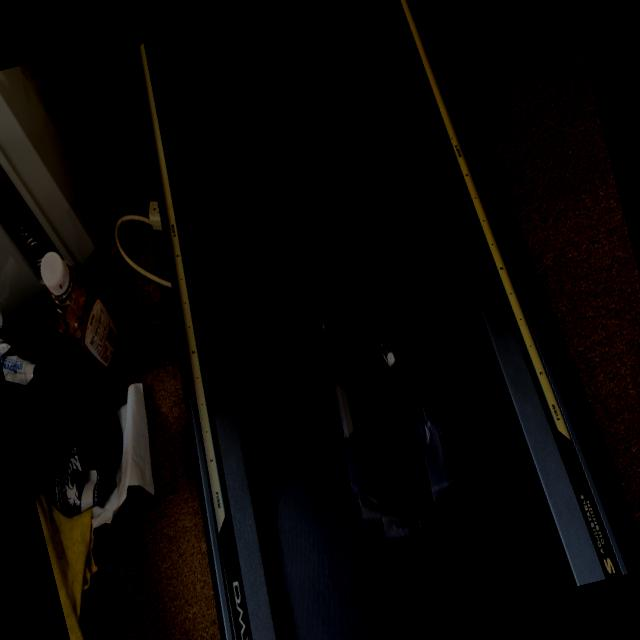Trash: (296, 258, 468, 551)
